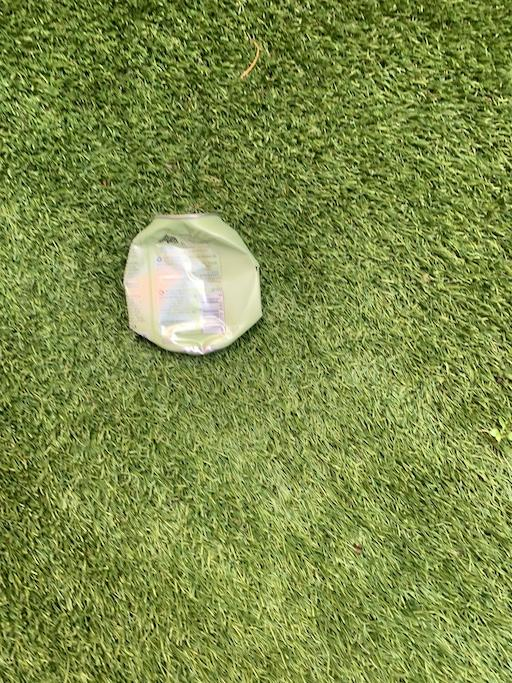Aluminum can: (119, 193, 284, 362)
